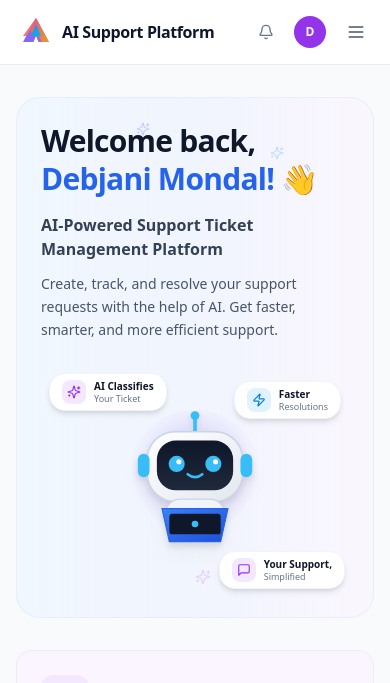
Test: CustomerDashboardView › toggles mobile navigation drawer and handles escape key closing
Note: Open mobile menu
Click the button named "Toggle navigation menu" at (356, 32), box [338,14,374,50]
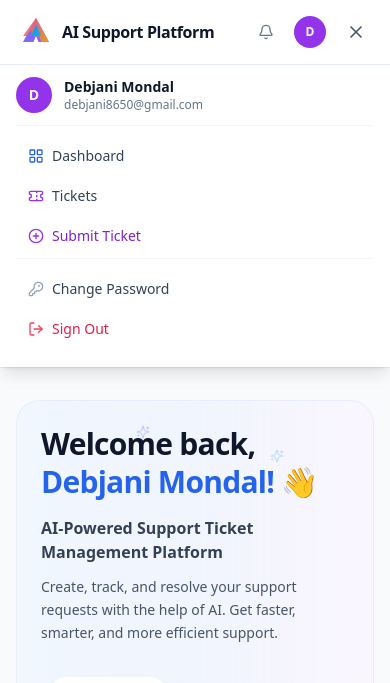
Check: the button named "Toggle navigation menu" is expanded, box [338,14,374,50]
Check: the text "debjani8650@gmail.com" is shown, box [64,97,203,113]
Check: the text "Change Password" is shown, box [52,279,170,299]
Note: Press Escape to close
Press Escape
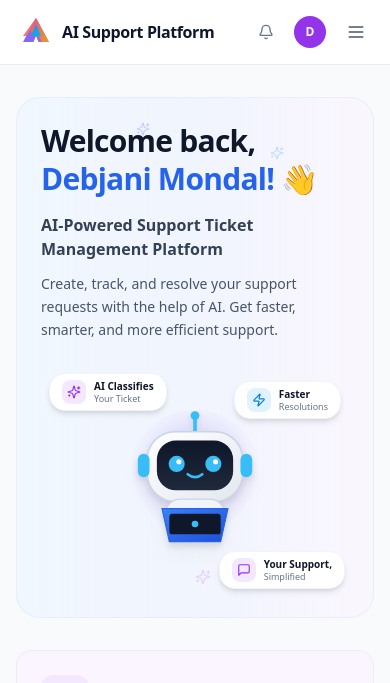
Check: the button named "Toggle navigation menu" is collapsed, box [338,14,374,50]
